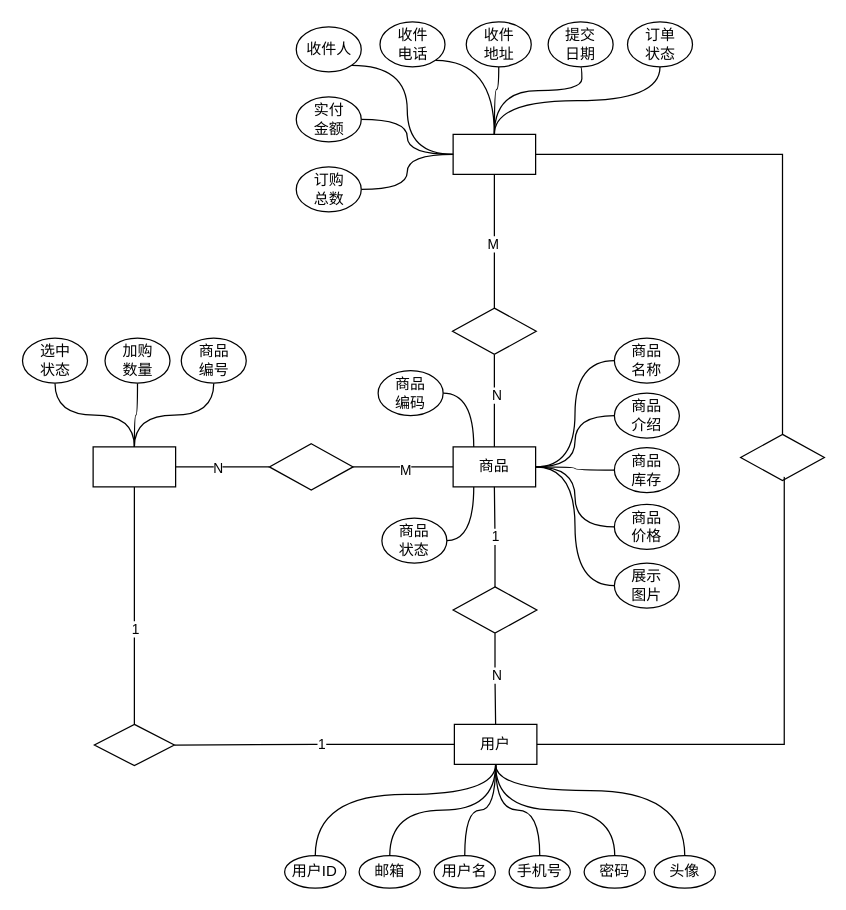
Some shapes in this 846 by 910 pixel diagram are drawn without their labels. The centre of each missing label's shape, as x and y in pixels:
加购: the point at 310,466
存储: the point at 133,744
生成: the point at 493,330
订单: the point at 494,153
购买: the point at 494,609
购物车: the point at 134,466
隶属: the point at 781,457
